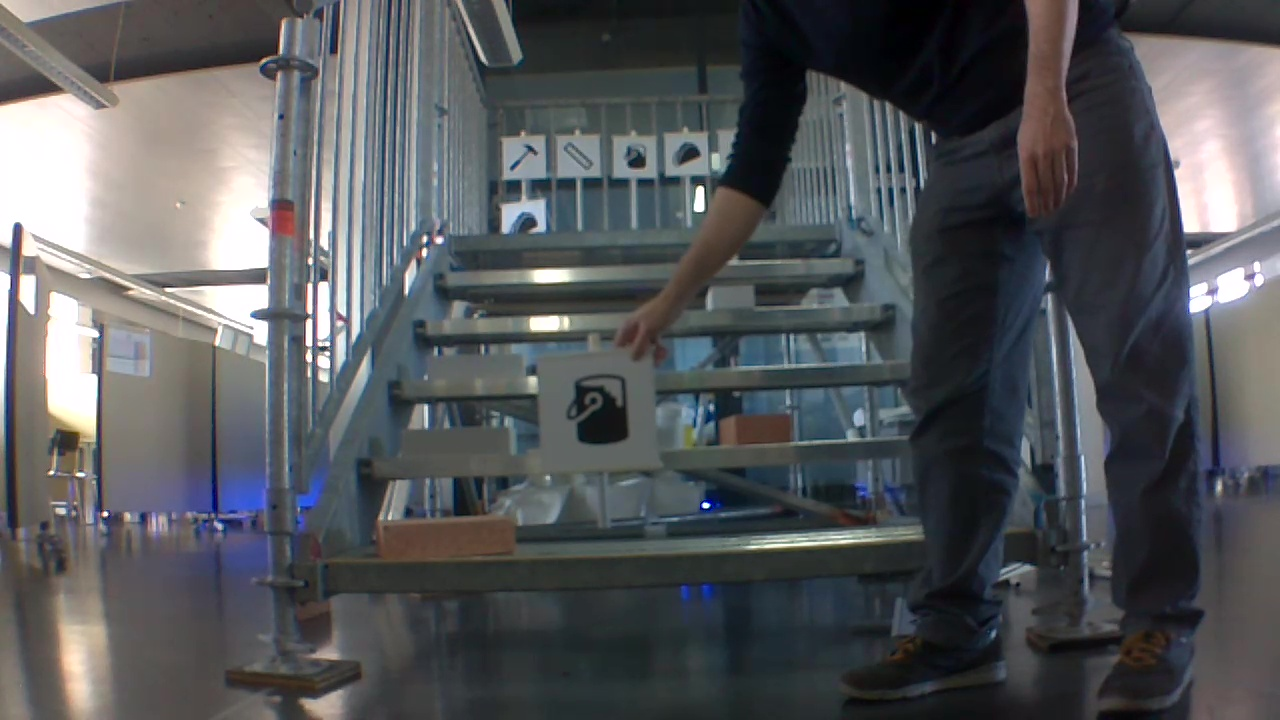brick: (379, 515, 512, 561), (401, 426, 516, 457), (428, 352, 525, 381), (721, 412, 791, 445), (708, 285, 754, 309)
bucket: (555, 368, 633, 451), (620, 142, 652, 173)
edge: (322, 530, 1044, 591)
hammer: (505, 140, 542, 174)
ruler: (558, 141, 597, 174)
taco: (669, 137, 702, 170), (503, 205, 540, 231)
